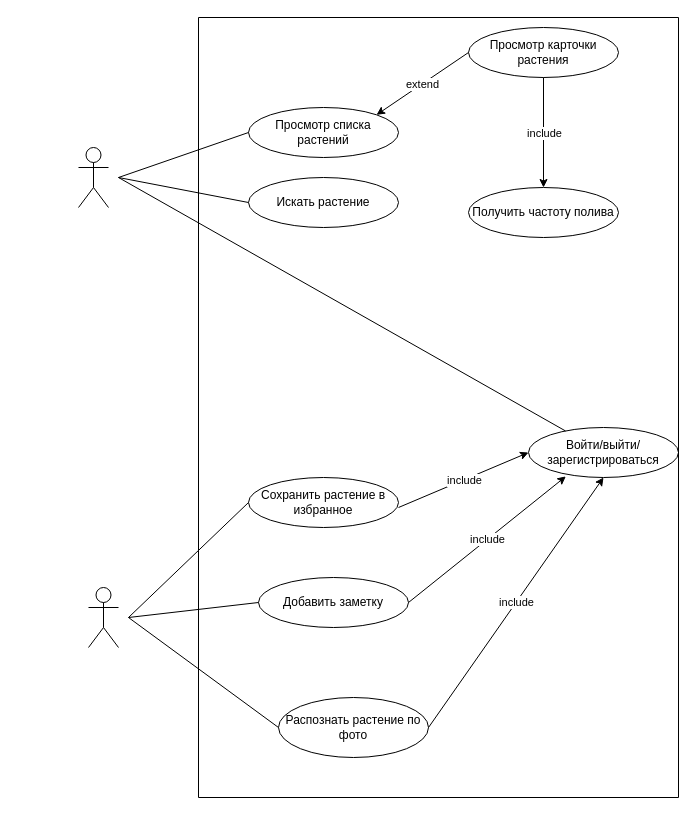
Image size: 696x815. Some labels were removed from this diagram. Here are the shapes that lost their labels. From the top down, the centre of each, then its label:
At point (93, 177): "Гость".
At point (103, 617): "Авторизованный пользователь".
